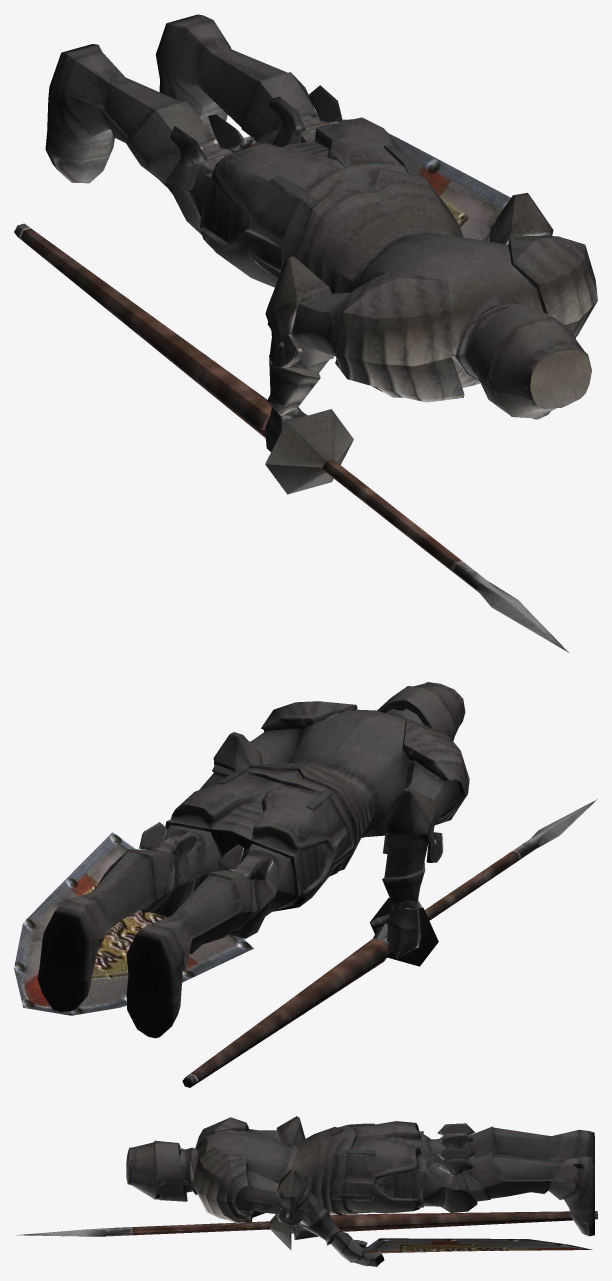
The model's file is armor1.obj.
3 renders of one model, top to bottom at view 1: azimuth 30°, elevation 25°; view 2: azimuth 150°, elevation 25°; view 3: azimuth 270°, elevation 25°, orthographic. The views are drawn at different scales.
Parts seen in each view (by area): view 1: Box04; view 2: Box04; view 3: Box04.
Part boxes in pixels (box(x1,y1,x2,y2)): Box04: box(14, 14, 597, 652); Box04: box(14, 682, 597, 1087); Box04: box(16, 1116, 597, 1266).
Bounding box in the file's own units: 20.79 × 15.11 × 57.51.
1 material, 1 textured.
